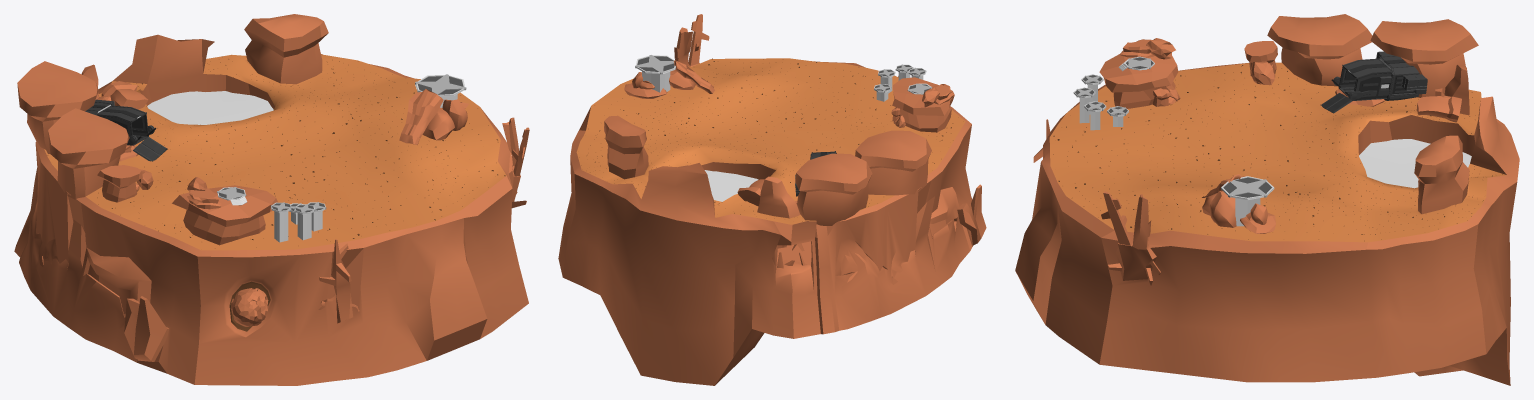
Rendered from Mapa.fbx.
3 views of the same model, side by side, from view 1: azimuth 30°, elevation 25°; view 2: azimuth 150°, elevation 25°; view 3: azimuth 270°, elevation 25° (orthographic). The views are drawn at different scales.
Visible parts, largest first — view 1: Base mapa, Piso mapa, Pilar roca.004, Pilar roca.007, Pilar roca.001, Nave, Roca larga, Pilar roca, Meteorito, Torre, Pilar roca.005, Roca.008 (+5 smaller); view 2: Base mapa, Piso mapa, Pilar roca.007, Pilar roca.004, Pilar roca.001, Torre, Roca larga, Pilar roca.005, Roca.009; view 3: Base mapa, Piso mapa, Pilar roca.004, Pilar roca.007, Nave, Pilar roca.001, Torre, Pilar roca.005, Roca, Pilar roca, Roca.004, Pilar roca.003 (+3 smaller).
Boxes of the visible parts, x1,y1,x2,y2 form: Base mapa: [14, 14, 529, 385]; Piso mapa: [44, 54, 506, 250]; Pilar roca.004: [48, 108, 129, 199]; Pilar roca.007: [17, 61, 98, 153]; Pilar roca.001: [172, 185, 277, 245]; Nave: [85, 99, 156, 145]; Roca larga: [399, 89, 443, 144]; Pilar roca: [97, 165, 142, 202]; Meteorito: [230, 288, 268, 326]; Torre: [415, 74, 466, 107]; Pilar roca.005: [101, 81, 147, 109]; Roca.008: [422, 107, 454, 140]; Base mapa: [558, 14, 986, 385]; Piso mapa: [576, 58, 965, 224]; Pilar roca.007: [795, 153, 872, 225]; Pilar roca.004: [855, 130, 931, 195]; Pilar roca.001: [892, 77, 954, 132]; Torre: [635, 55, 675, 96]; Roca larga: [673, 60, 714, 93]; Pilar roca.005: [737, 179, 764, 206]; Roca.009: [624, 83, 667, 98]; Base mapa: [1015, 63, 1519, 385]; Piso mapa: [1049, 62, 1506, 242]; Pilar roca.004: [1267, 14, 1372, 86]; Pilar roca.007: [1370, 19, 1478, 97]; Nave: [1331, 51, 1427, 100]; Pilar roca.001: [1099, 54, 1178, 108]; Torre: [1221, 176, 1274, 226]; Pilar roca.005: [1416, 96, 1461, 122]; Roca: [1210, 191, 1236, 227]; Pilar roca: [1244, 41, 1277, 76]; Roca.004: [1250, 61, 1274, 85]; Pilar roca.003: [1119, 39, 1154, 57].
Size of the model in its own units: 16240 by 10442 by 17310.
